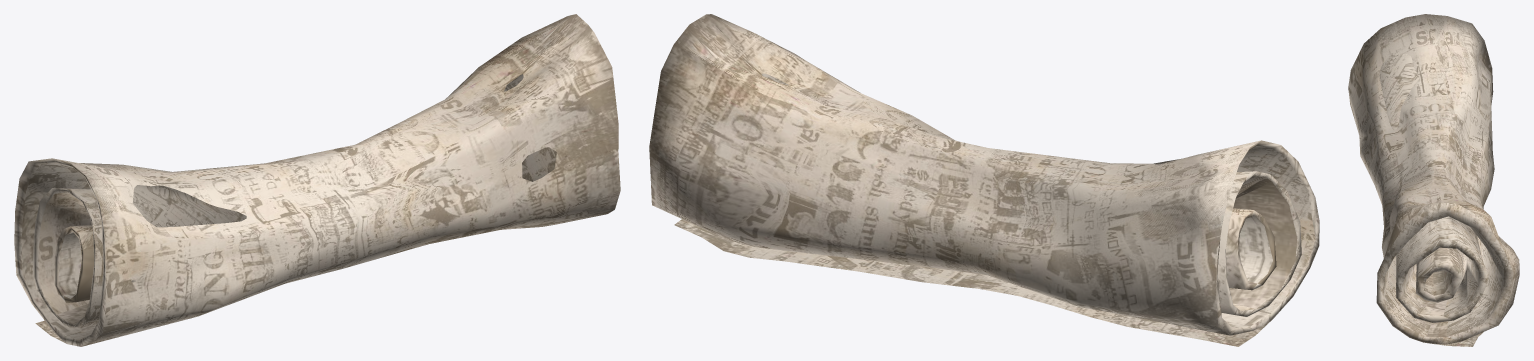
The model's file is NewsPaper.fbx.
3 renders of one model, left to right at view 1: azimuth 30°, elevation 25°; view 2: azimuth 150°, elevation 25°; view 3: azimuth 270°, elevation 25°, orthographic. The views are drawn at different scales.
Parts seen in each view (by area): view 1: NewsPaper; view 2: NewsPaper; view 3: NewsPaper.
Boxes of the visible parts, x1,y1,x2,y2 form: NewsPaper: (14,14,620,346); NewsPaper: (649,14,1319,346); NewsPaper: (1348,14,1519,346).
Size of the model in its own units: 466 by 156 by 166.
